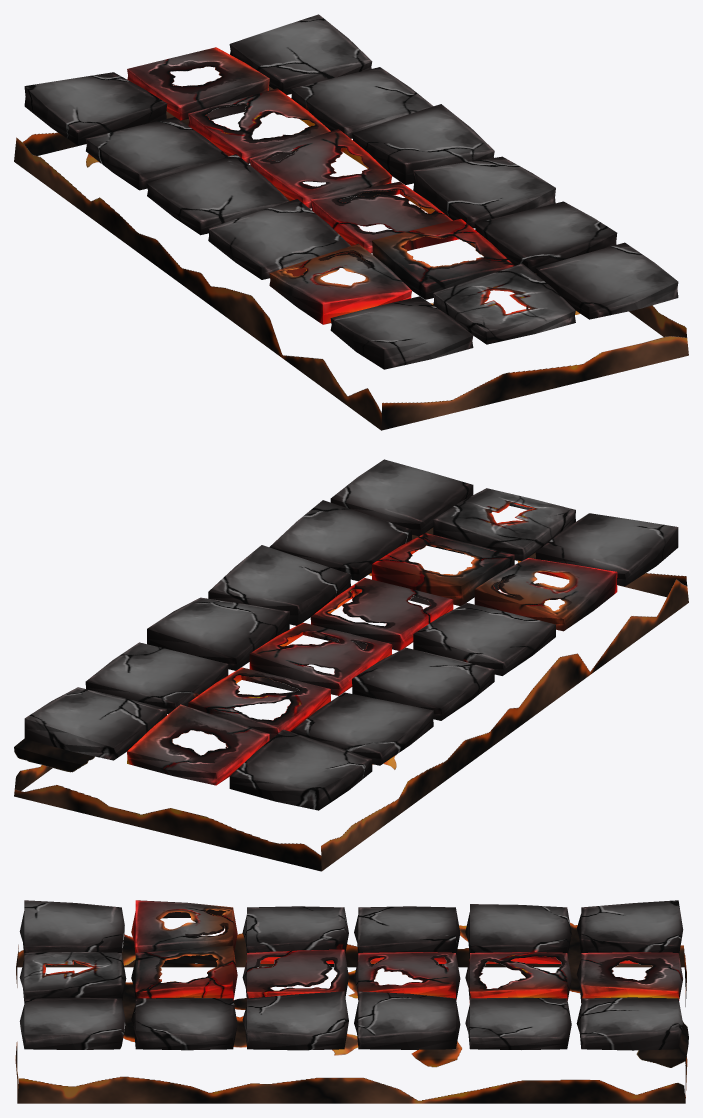
Rendered from LavaCompleteBlock.FBX.
The picture shows the model from 3 angles, top to bottom: view 1: azimuth 30°, elevation 25°; view 2: azimuth 150°, elevation 25°; view 3: azimuth 270°, elevation 25°; orthographic projection. The views are drawn at different scales.
Parts seen in each view (by area): view 1: LavaSample2; view 2: LavaSample2; view 3: LavaSample2.
Part boxes in pixels (x1=…): LavaSample2: x1=14, y1=14, x2=688, y2=430; LavaSample2: x1=14, y1=459, x2=688, y2=871; LavaSample2: x1=15, y1=900, x2=688, y2=1103.
Bounding box in the file's own units: 228 × 53.92 × 467.
1 material, 1 textured.
